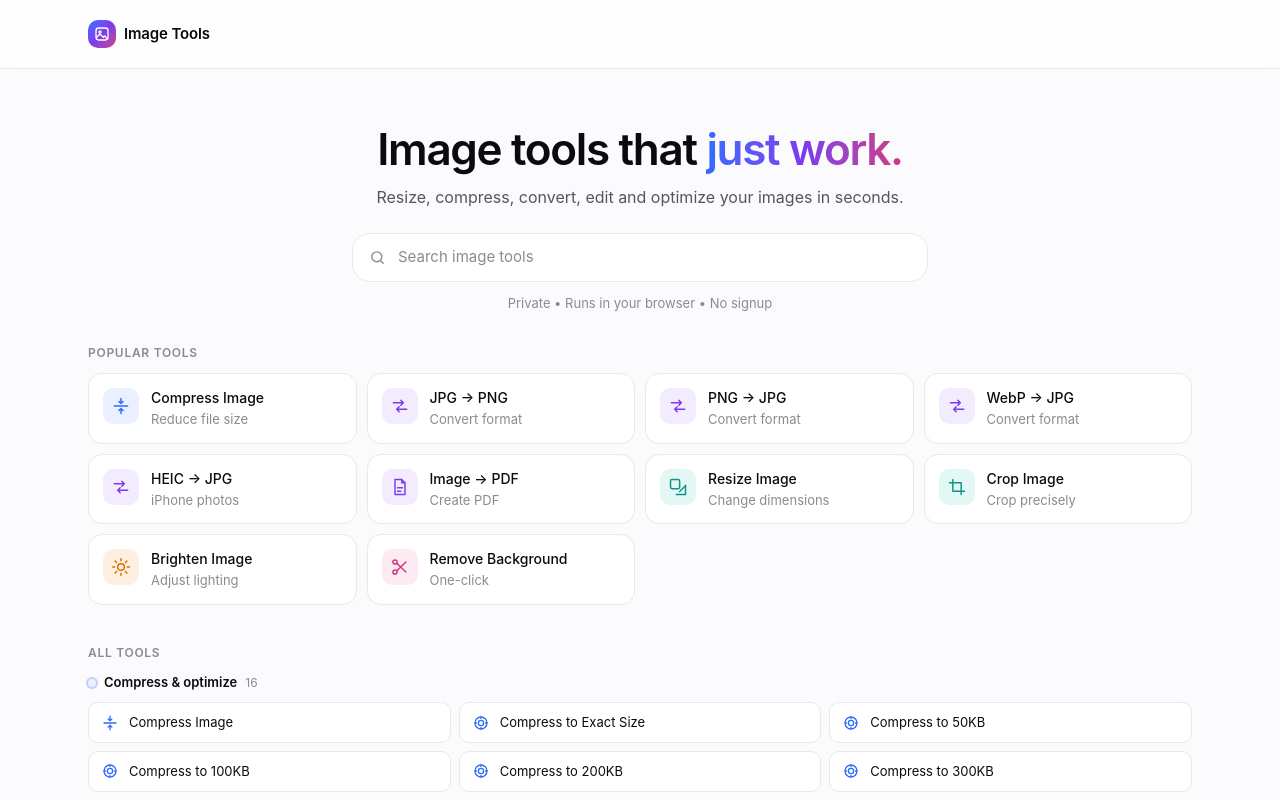
Test case: tool search › typing a need shows matching tools
Type "smaller" into the dropdown at (654, 258), box x1=398 y1=246 x2=911 y2=269
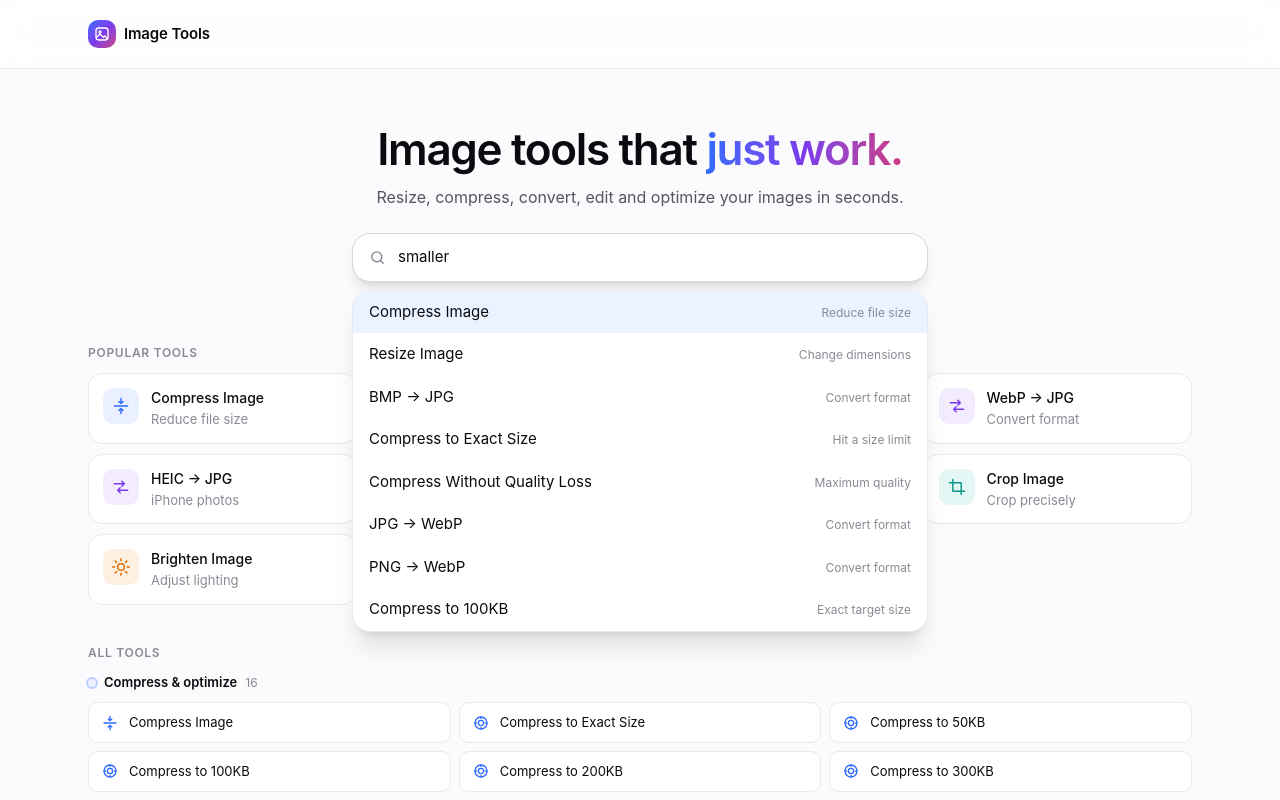
Result: the text "Compress Image" below "Image tools that" is shown at x1=369 y1=302 x2=489 y2=321
Result: the text "Resize Image" is shown at x1=369 y1=343 x2=463 y2=366
